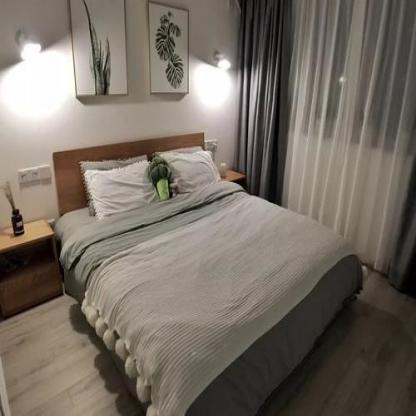other: (2, 42, 77, 116), (194, 62, 234, 110)
